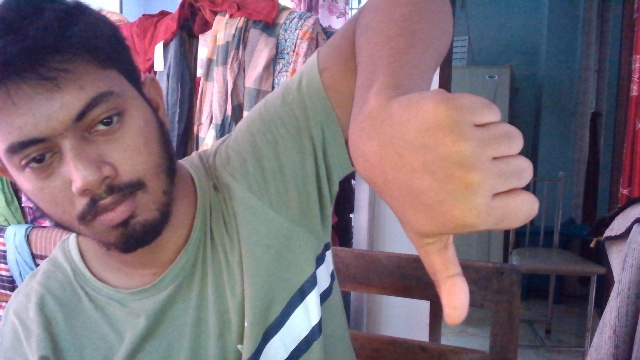no: (335, 94, 548, 327)
